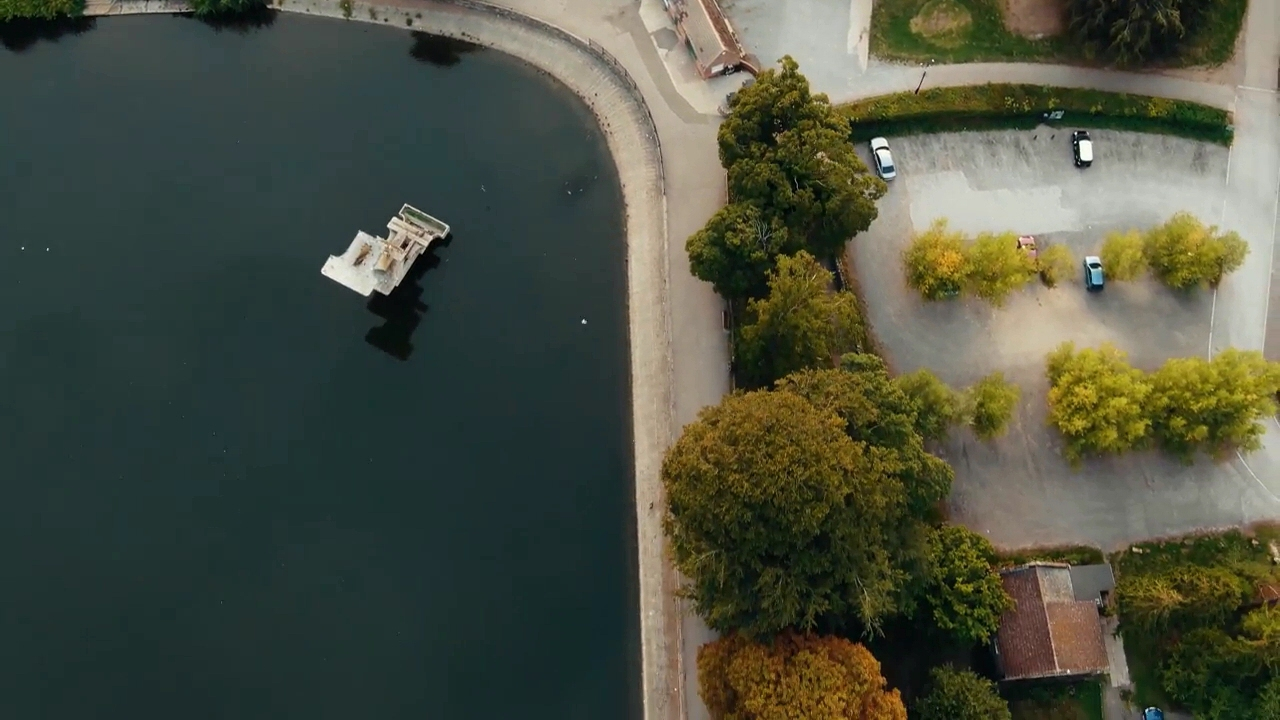araba: (868, 135, 896, 183), (1015, 232, 1045, 271), (1082, 251, 1107, 293), (1068, 129, 1093, 167)
